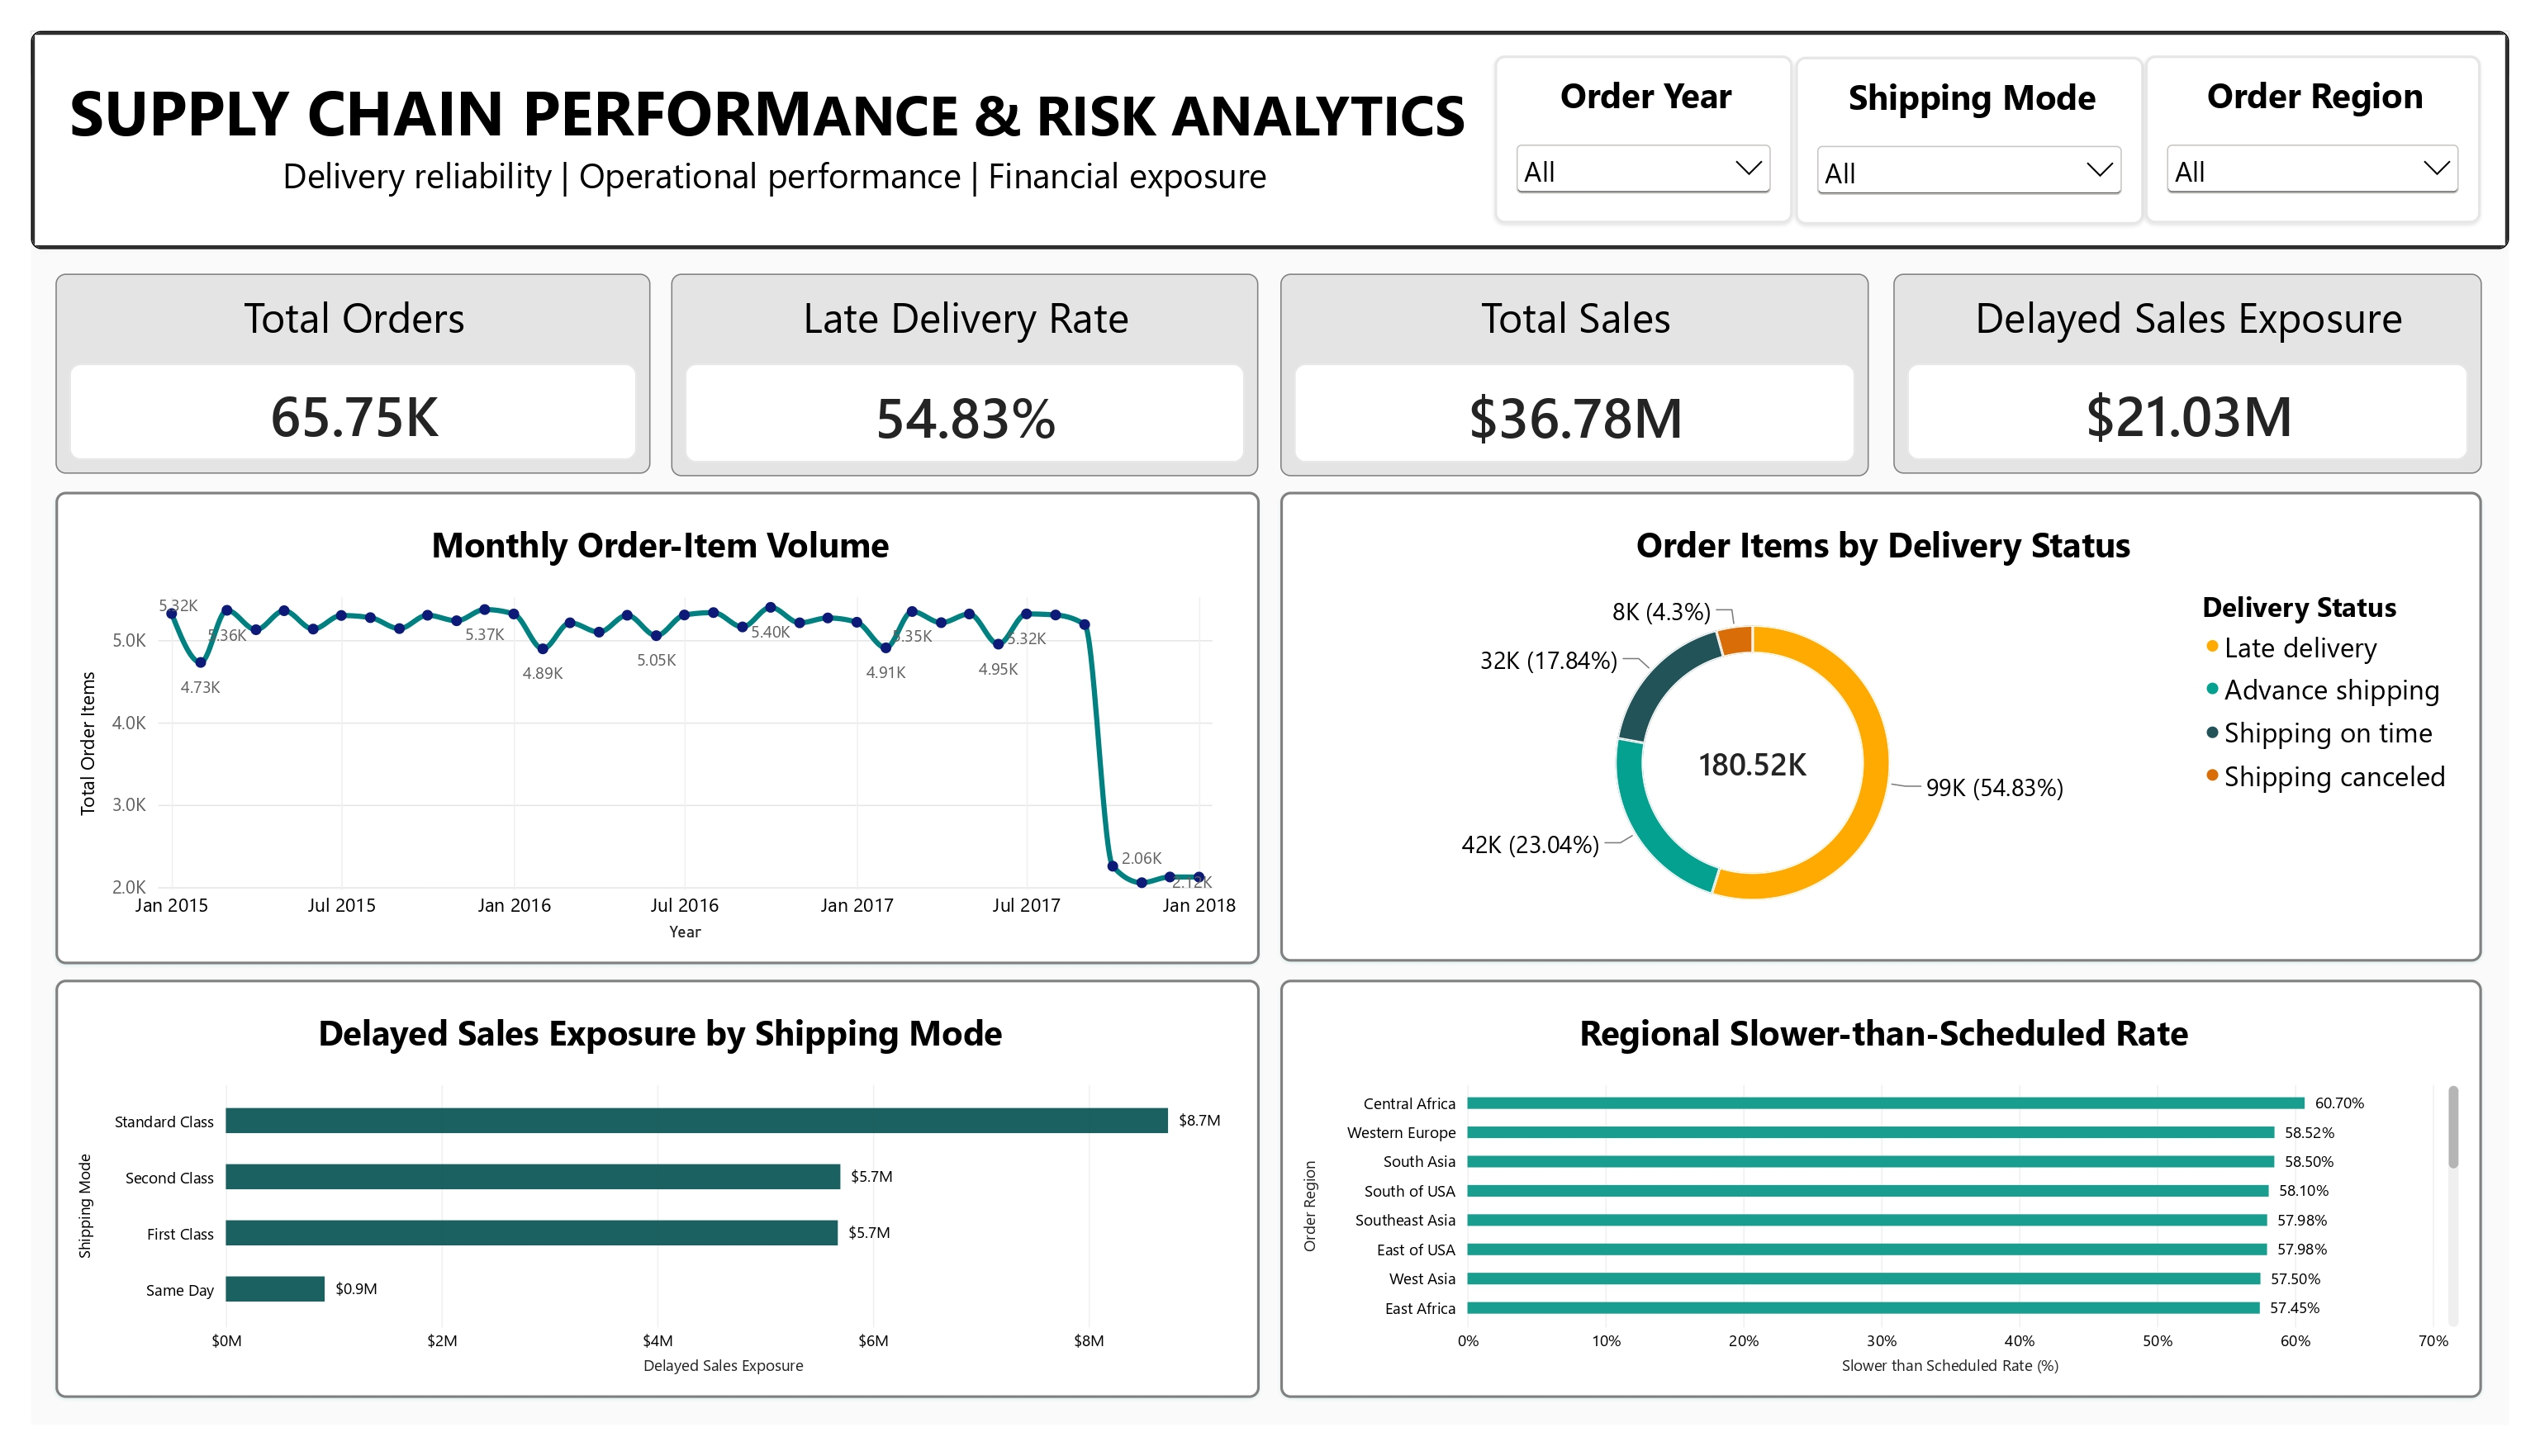

The dashboard page shown, as its layout file describes it:
{"tool":"powerbi","page":{"name":"Executive Overview ","canvas":[1920,1080],"ordinal":0},"visuals":[{"type":"shape","box":[0,0,1920,168.9],"z":0},{"type":"textbox","box":[18.8,29.5,1115.5,120.7],"z":1000},{"type":"cardVisual","title":"Total Orders ","fields":{"Data":["_Measures.Total Orders"]},"box":[18.8,187.7,461.2,155.5],"z":2000},{"type":"cardVisual","title":"Late Delivery Rate ","fields":{"Data":["_Measures.Late Delivery Rate (%)"]},"box":[496.1,187.7,455,157.5],"z":3000},{"type":"cardVisual","title":"Delayed Sales Exposure ","fields":{"Data":["_Measures.Delayed Sales Exposure"]},"box":[1442.7,187.7,455.9,155.5],"z":4000},{"type":"cardVisual","title":"Total Sales ","fields":{"Data":["_Measures.Total Sales"]},"box":[968,187.7,456,157.5],"z":5000},{"type":"lineChart","title":"Monthly Order-Item Volume ","fields":{"Category":["cleaned_SupplyChainDataset.Order Date Only.Variation.Date Hierarchy.Year","cleaned_SupplyChainDataset.Order Date Only.Variation.Date Hierarchy.Month"],"Y":["_Measures.Total Order Items"]},"box":[18.8,356.6,933.2,366],"z":6000},{"type":"donutChart","title":"Order Items by Delivery Status ","fields":{"Category":["cleaned_SupplyChainDataset.Delivery Status"],"Y":["_Measures.Total Order Items"]},"box":[968,356.6,930.5,364.7],"z":7000},{"type":"clusteredBarChart","title":"Delayed Sales Exposure by Shipping Mode ","fields":{"Category":["cleaned_SupplyChainDataset.Shipping Mode"],"Y":["_Measures.Delayed Sales Exposure"]},"box":[18.8,734.7,933.2,324.5],"z":8000},{"type":"clusteredBarChart","title":"Regional Slower-than-Scheduled Rate ","fields":{"Category":["cleaned_SupplyChainDataset.Order Region"],"Y":["_Measures.Slower than Scheduled Rate (%)"]},"box":[968,734.7,930.5,324.5],"z":9000},{"type":"slicer","title":"Order Year ","fields":{"Values":["cleaned_SupplyChainDataset.Order Year"]},"box":[1134.3,18.8,231,130],"z":10000},{"type":"slicer","title":"Shipping Mode","fields":{"Values":["cleaned_SupplyChainDataset.Shipping Mode"]},"box":[1366.7,20,270,130],"z":11000},{"type":"slicer","title":"Order Region","fields":{"Values":["cleaned_SupplyChainDataset.Order Region"]},"box":[1638.4,18.8,260,130],"z":12000}]}

Visuals, with their boxes on the page's 1920x1080 design canvas (x1, y1, x2, y2). These are canvas units, not pixel positions in the 2540x1456 screenshot, which may show the page scaled, cropped or inside an application window:
shape: [0, 0, 1920, 169]
textbox: [19, 30, 1134, 150]
"Total Orders " cardVisual: [19, 188, 480, 343]
"Late Delivery Rate " cardVisual: [496, 188, 951, 345]
"Delayed Sales Exposure " cardVisual: [1443, 188, 1899, 343]
"Total Sales " cardVisual: [968, 188, 1424, 345]
"Monthly Order-Item Volume " lineChart: [19, 357, 952, 723]
"Order Items by Delivery Status " donutChart: [968, 357, 1898, 721]
"Delayed Sales Exposure by Shipping Mode " clusteredBarChart: [19, 735, 952, 1059]
"Regional Slower-than-Scheduled Rate " clusteredBarChart: [968, 735, 1898, 1059]
"Order Year " slicer: [1134, 19, 1365, 149]
"Shipping Mode" slicer: [1367, 20, 1637, 150]
"Order Region" slicer: [1638, 19, 1898, 149]
